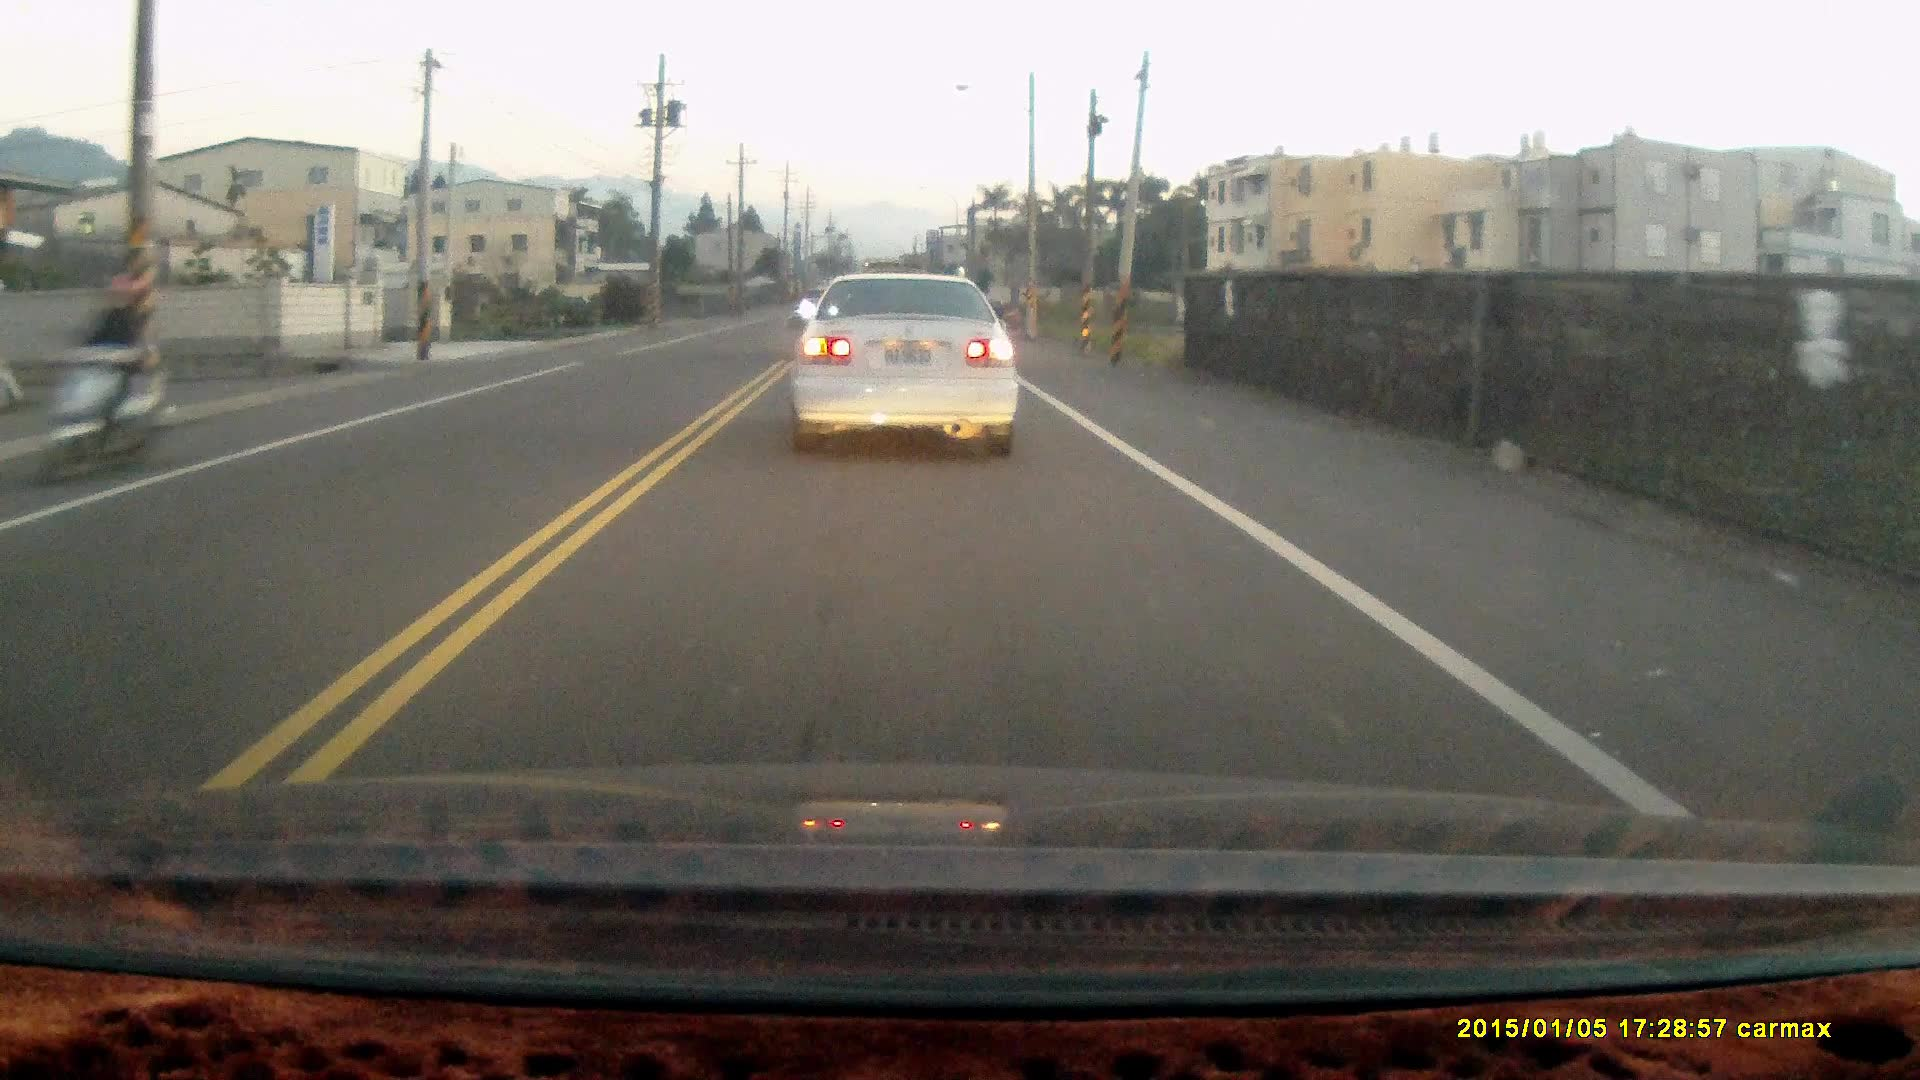rider: (32, 276, 166, 488)
vehicle: (788, 272, 1024, 462)
